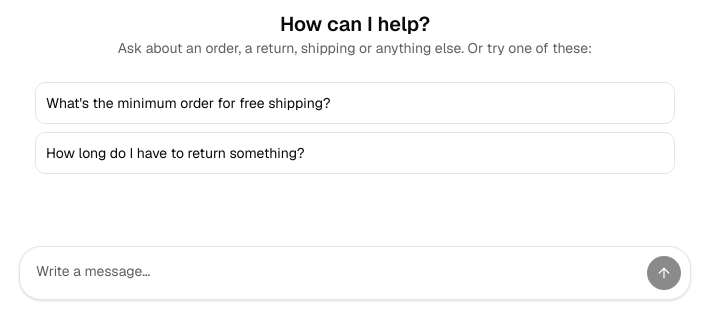
Test case: ChatPage › puts a picked suggestion in the box and does not send it
What coordinates should you click on to do the following:
click the button "How long do I have to return something?"
I would click on:
 (175, 153)
Its box is [35,132,675,174].
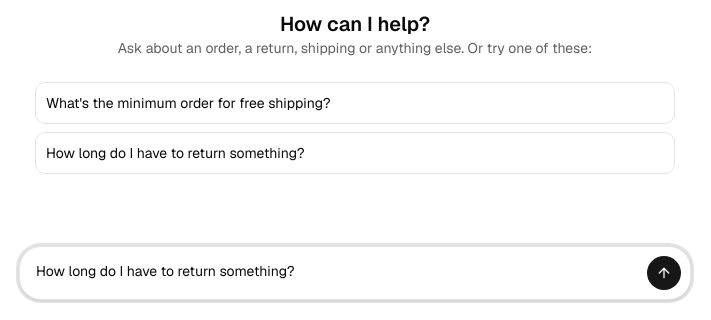
Result: the text box named "message" holds "How long do I have to return something?" at [36,255,638,291]
